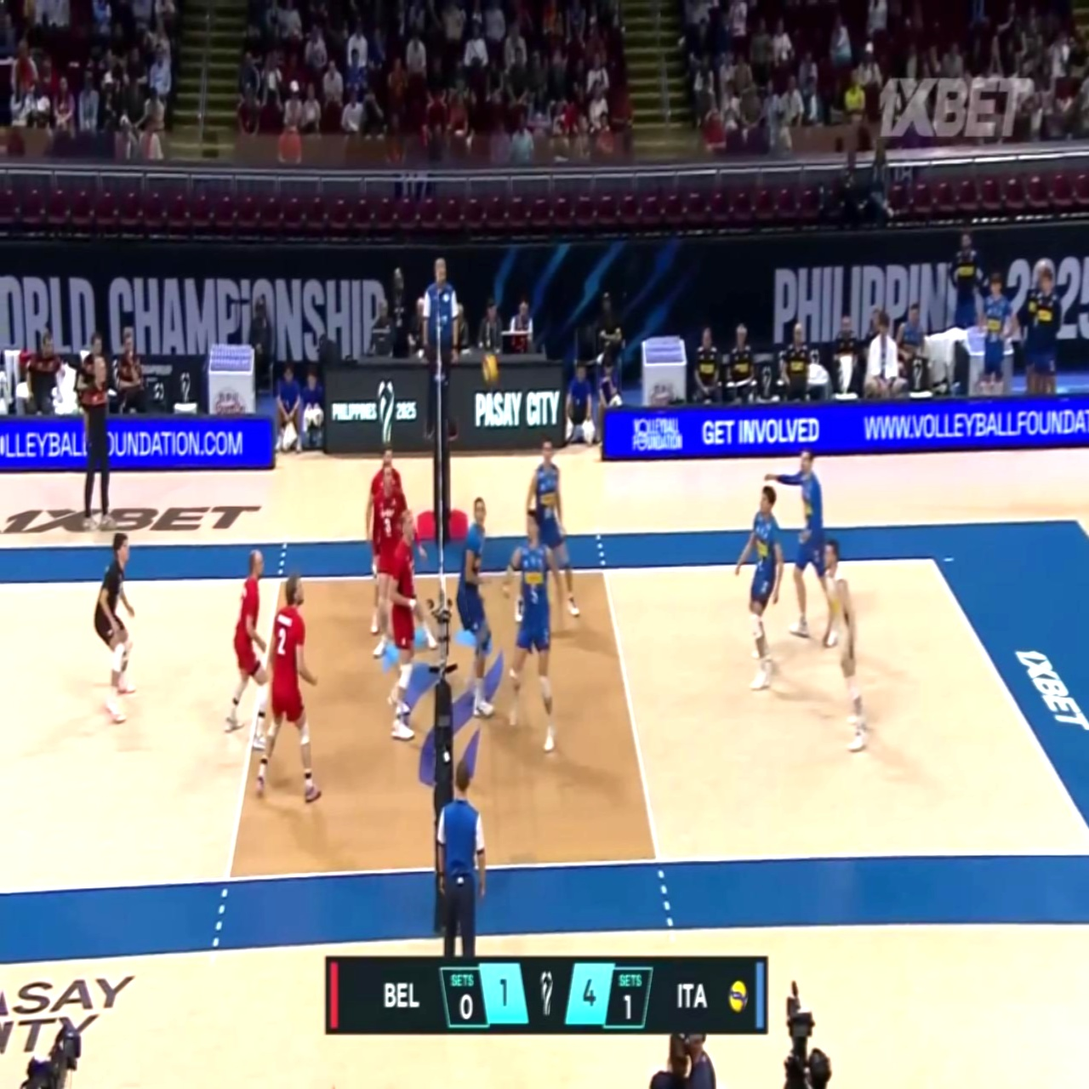ball: (482, 354, 496, 383)
